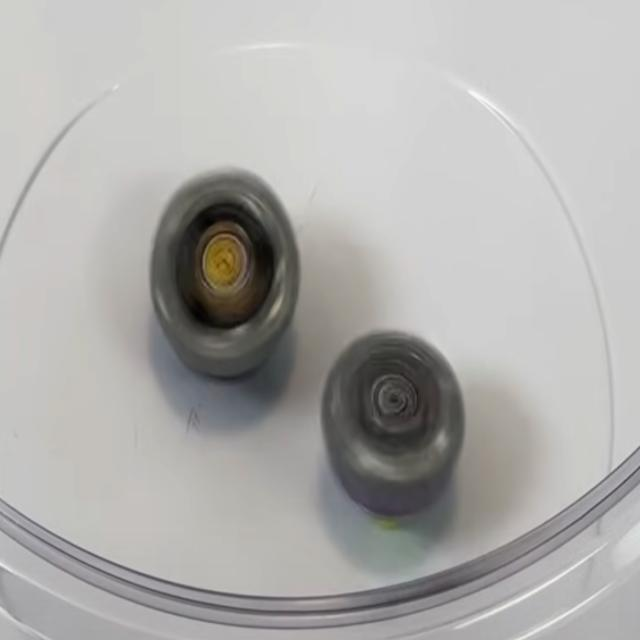Beyblade: (146, 164, 304, 383), (319, 327, 469, 521)
